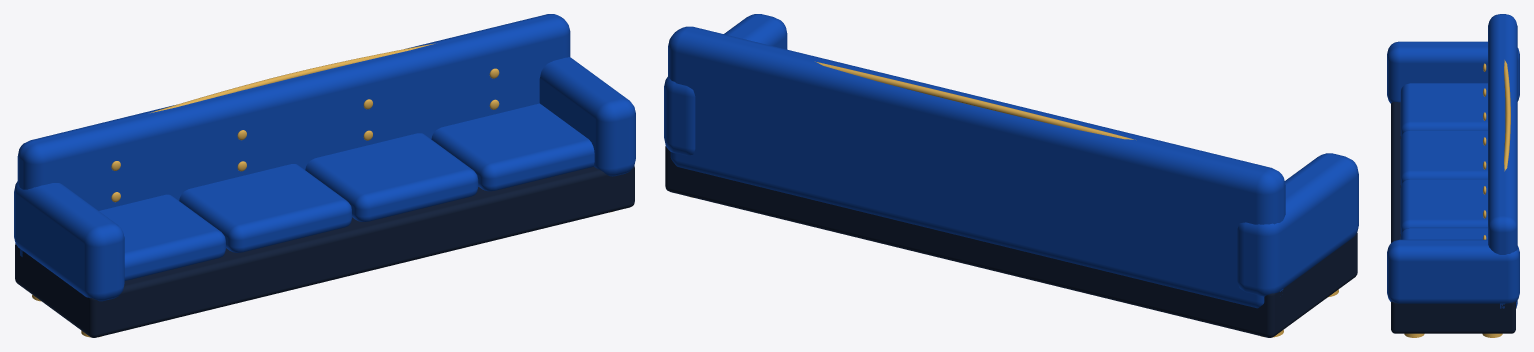
File: blues-sofa.glb
3 views of the same model, side by side, from view 1: azimuth 30°, elevation 25°; view 2: azimuth 150°, elevation 25°; view 3: azimuth 270°, elevation 25° (orthographic). The views are drawn at different scales.
Size of the model in its own units: 6.45 by 1.72 by 1.7.
